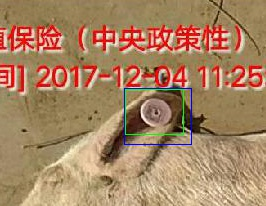text: (125, 89, 183, 134)
